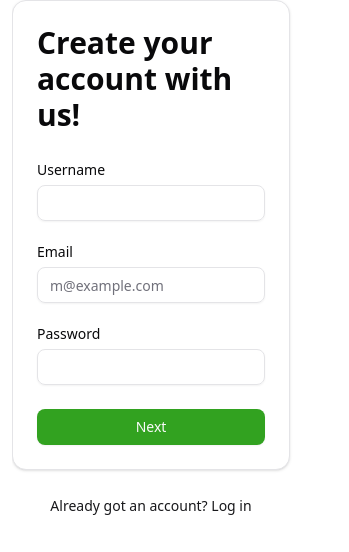
Test: SignupCard › shows error message on failed submission
Type "testuser" into the field labelled "Username".
click(151, 203); type("testuser")  # box [37,185,265,221]
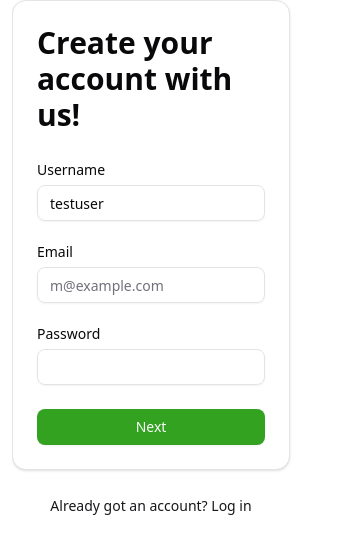
Type "test@example.com" into the field labelled "Email".
click(151, 285); type("test@example.com")  # box [37,267,265,303]
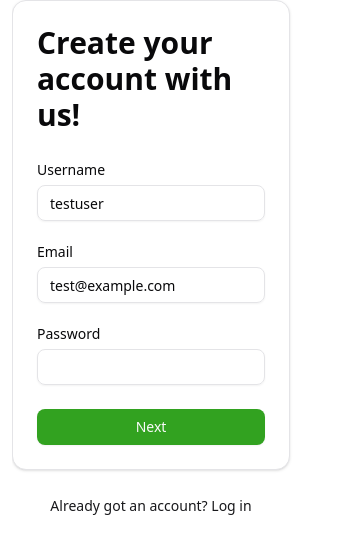
Type "password123" into the password field labelled "Password".
click(151, 367); type("password123")  # box [37,349,265,385]
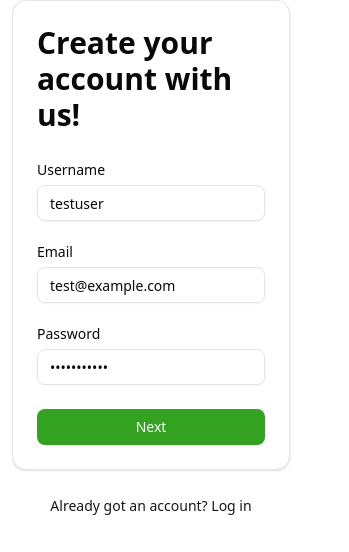
Click the button "Next".
click(151, 427)  # box [37,409,265,445]
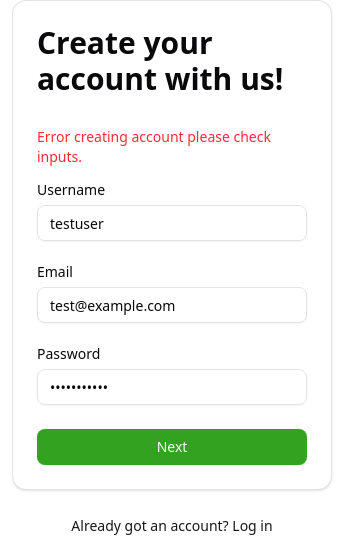
Check: the text "Error creating account please check inputs." is shown, box [37,127,307,167]
